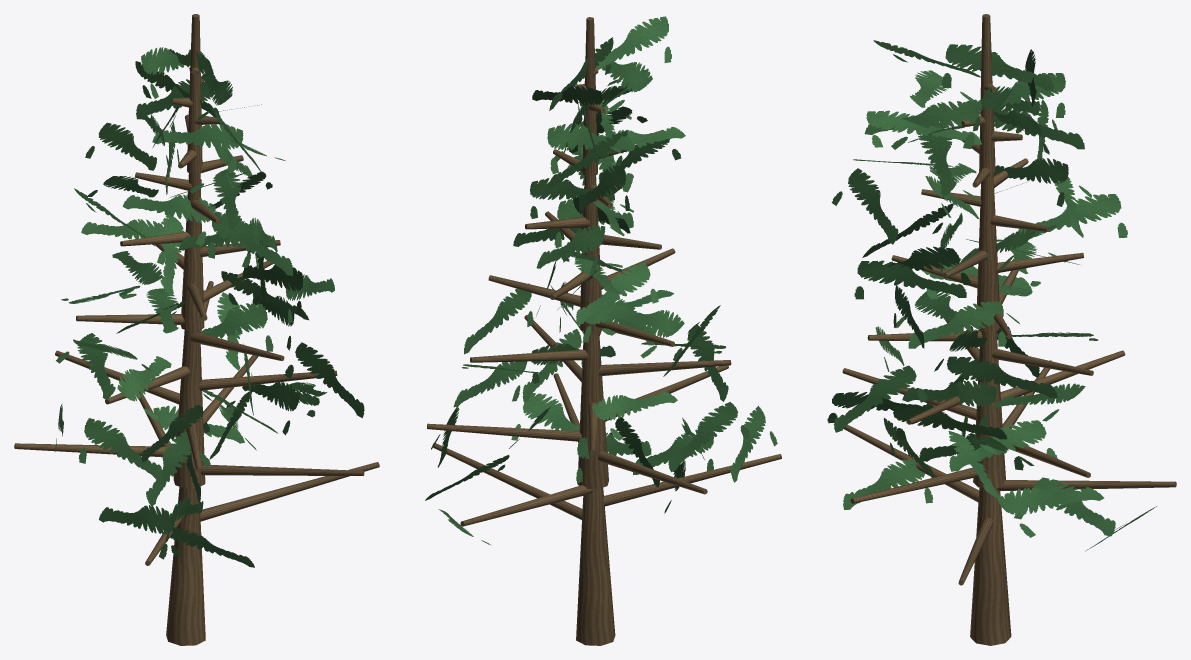
3 views of the same model, side by side, from view 1: azimuth 30°, elevation 25°; view 2: azimuth 150°, elevation 25°; view 3: azimuth 270°, elevation 25° (orthographic).
Parts seen in each view (by area): view 1: pine-needle, pine-bark; view 2: pine-needle, pine-bark; view 3: pine-needle, pine-bark.
Part boxes in pixels (box(x1,y1,x2,y2)): pine-needle: box(55, 47, 364, 567); pine-bark: box(14, 14, 379, 645); pine-needle: box(425, 16, 777, 545); pine-bark: box(427, 17, 781, 645); pine-needle: box(827, 40, 1156, 551); pine-bark: box(842, 14, 1176, 645).
Bounding box in the file's own units: 5.51 × 10.01 × 5.3.
2 materials, 2 textured.
